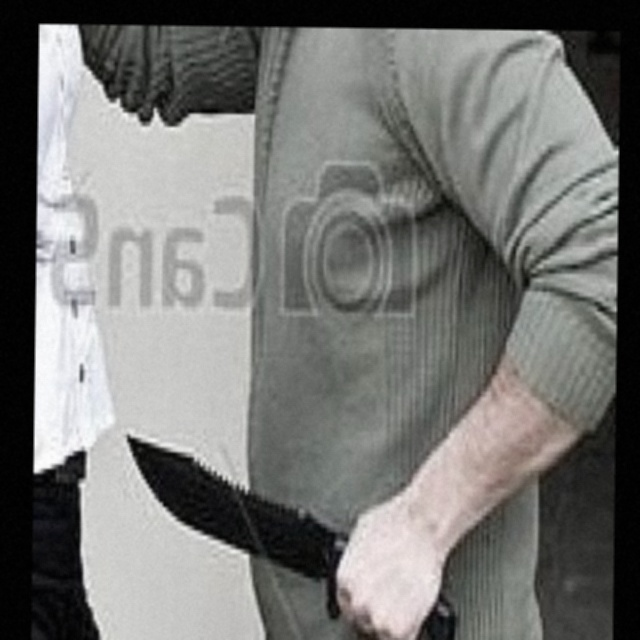Sharp-Object: (124, 433, 461, 640)
